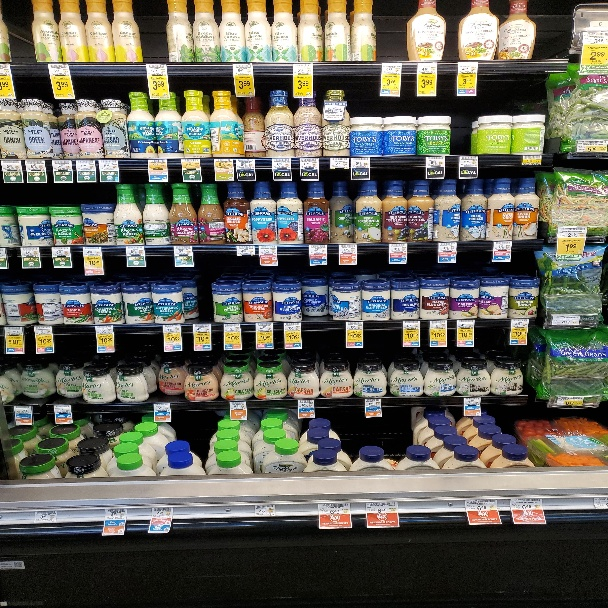All PRICE TAGS: (558, 226, 587, 239), (577, 140, 607, 152), (319, 503, 349, 514), (465, 500, 497, 510), (511, 499, 542, 509), (366, 502, 397, 512), (584, 33, 607, 45), (557, 395, 582, 406), (552, 315, 579, 325), (105, 508, 127, 520), (34, 510, 56, 522), (253, 504, 276, 515), (151, 507, 173, 518), (1, 160, 22, 171), (48, 63, 70, 73), (382, 62, 402, 73), (416, 62, 437, 72), (147, 63, 166, 74), (233, 63, 253, 73), (457, 62, 477, 72), (25, 160, 45, 170), (298, 158, 318, 168), (351, 157, 370, 167), (82, 246, 102, 255), (522, 156, 542, 165), (293, 64, 313, 73), (52, 160, 72, 169), (76, 160, 96, 169), (272, 159, 292, 168), (426, 156, 445, 165), (330, 158, 349, 167), (99, 160, 118, 169), (438, 242, 456, 251), (339, 244, 357, 253), (459, 156, 477, 165), (215, 159, 233, 168), (236, 159, 254, 168), (126, 246, 146, 254), (51, 247, 71, 255), (180, 159, 200, 167), (154, 403, 171, 412), (494, 241, 511, 250), (237, 245, 254, 254), (174, 245, 193, 253), (14, 406, 32, 414), (511, 319, 529, 327), (429, 320, 447, 328), (403, 321, 421, 329), (346, 321, 364, 329), (255, 323, 273, 331), (193, 324, 211, 332), (21, 247, 39, 255), (148, 160, 166, 168), (464, 397, 481, 405), (285, 322, 302, 330), (223, 323, 240, 331), (163, 324, 180, 332), (96, 325, 113, 333), (35, 326, 52, 334), (5, 327, 22, 335), (390, 244, 407, 252), (310, 245, 327, 253), (229, 401, 248, 408), (365, 398, 381, 406), (54, 405, 70, 413), (260, 245, 276, 253), (457, 320, 474, 327), (298, 400, 314, 407)
